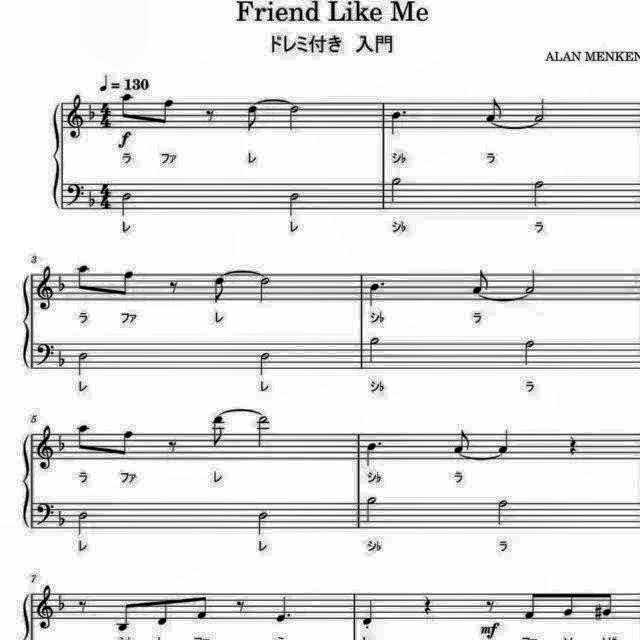Bass-clef: (32, 339, 54, 369), (66, 181, 86, 211), (32, 497, 52, 527)
Bemol: (56, 504, 68, 536), (56, 269, 70, 295), (56, 430, 68, 458), (85, 100, 98, 124), (56, 342, 66, 371), (56, 592, 70, 612), (88, 187, 100, 209)
Eighth-note: (520, 586, 544, 624), (112, 597, 136, 635), (115, 267, 139, 301), (207, 416, 229, 452), (113, 428, 137, 460), (470, 266, 494, 296), (158, 93, 178, 127), (152, 593, 172, 627), (194, 588, 214, 622), (73, 260, 93, 294), (73, 421, 93, 455), (482, 96, 506, 124), (450, 428, 474, 456), (560, 586, 580, 618), (210, 274, 230, 306), (242, 102, 262, 134), (599, 590, 617, 620), (120, 90, 136, 122)
Eighth-rest: (164, 276, 183, 298), (164, 437, 182, 459), (74, 594, 90, 616), (233, 596, 250, 616), (484, 594, 501, 614), (202, 104, 218, 124)
Half-note: (252, 413, 272, 451), (360, 492, 380, 528), (520, 334, 540, 370), (528, 176, 548, 212), (492, 496, 512, 530), (384, 176, 404, 210), (364, 336, 384, 368), (254, 347, 274, 378), (522, 266, 542, 296), (254, 274, 274, 304), (254, 508, 274, 538), (284, 189, 304, 219), (284, 100, 302, 132), (72, 348, 91, 378), (73, 509, 91, 539), (534, 98, 552, 126), (118, 188, 134, 218)
Quarter-dot: (272, 592, 296, 624), (384, 108, 408, 140), (364, 278, 388, 310), (361, 437, 385, 468)
Quarter-note: (358, 598, 378, 630), (494, 426, 514, 454)
Quarter-rest: (563, 432, 581, 460), (419, 591, 437, 617)
Treble-clef: (34, 582, 58, 632), (34, 424, 58, 474), (34, 263, 58, 313), (65, 91, 87, 140)
